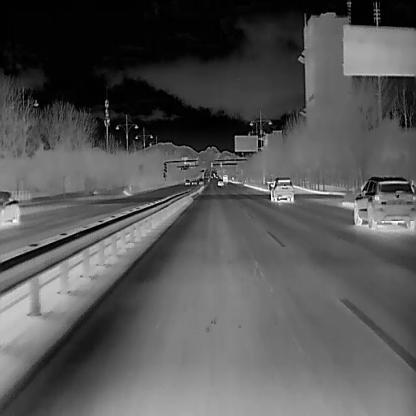car: (353, 174, 416, 229), (267, 174, 295, 203), (0, 189, 20, 222), (183, 179, 190, 185), (198, 177, 203, 184), (217, 180, 223, 185), (223, 175, 227, 182), (191, 179, 196, 184)
